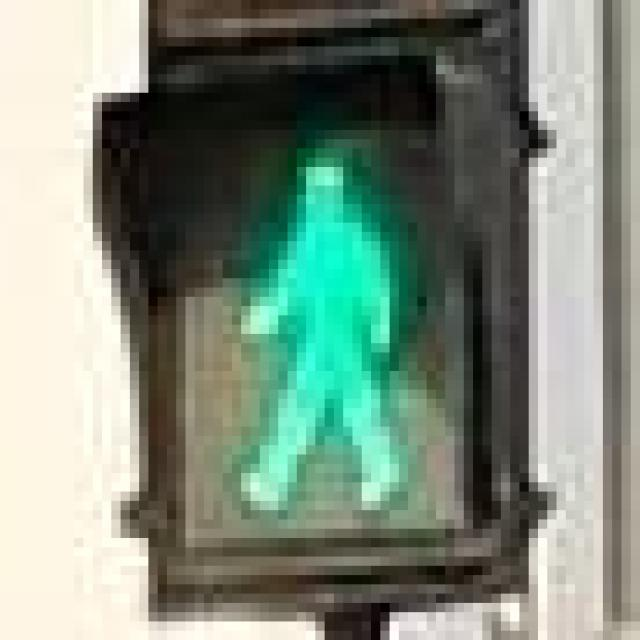green_light: (166, 92, 454, 520)
